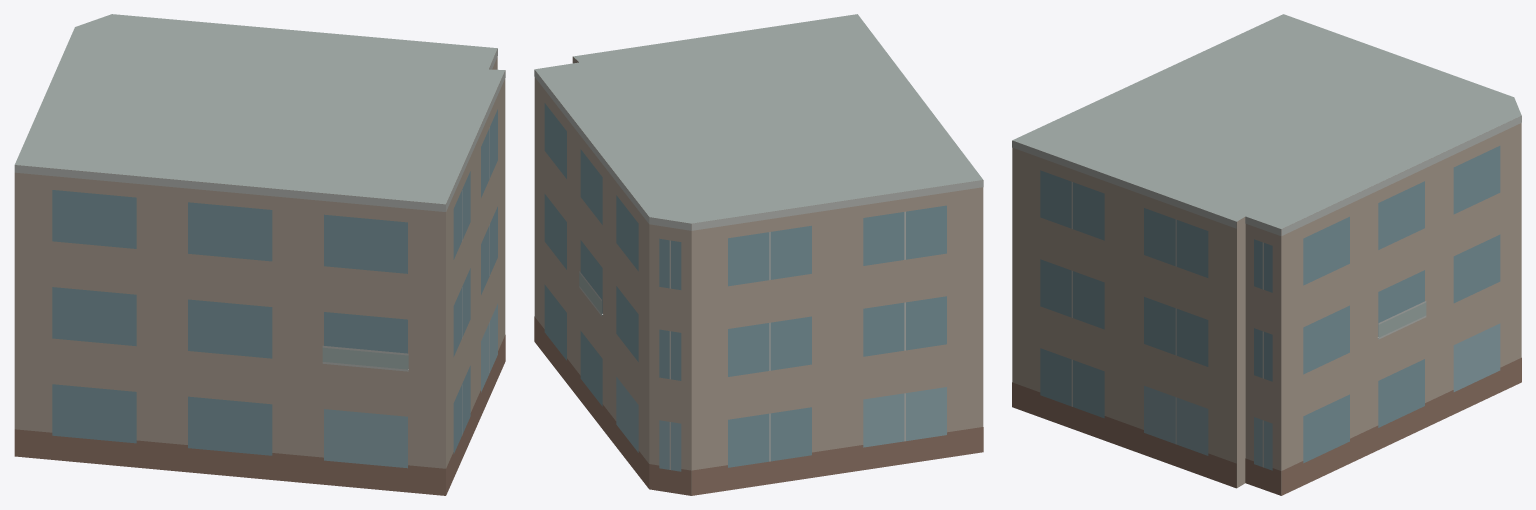
File: survey-upis-32675781.glb
3 views of the same model, side by side, from view 1: azimuth 30°, elevation 25°; view 2: azimuth 150°, elevation 25°; view 3: azimuth 270°, elevation 25° (orthographic). The views are drawn at different scales.
Visible parts, largest first — view 1: survey-upis-32675781.tmp; view 2: survey-upis-32675781.tmp; view 3: survey-upis-32675781.tmp.
Part boxes in pixels (x1,y1,x2,y2): survey-upis-32675781.tmp: (14, 14, 505, 495); survey-upis-32675781.tmp: (534, 14, 983, 495); survey-upis-32675781.tmp: (1012, 14, 1521, 495).
Bounding box in the file's own units: 15.84 × 9.15 × 15.86.
